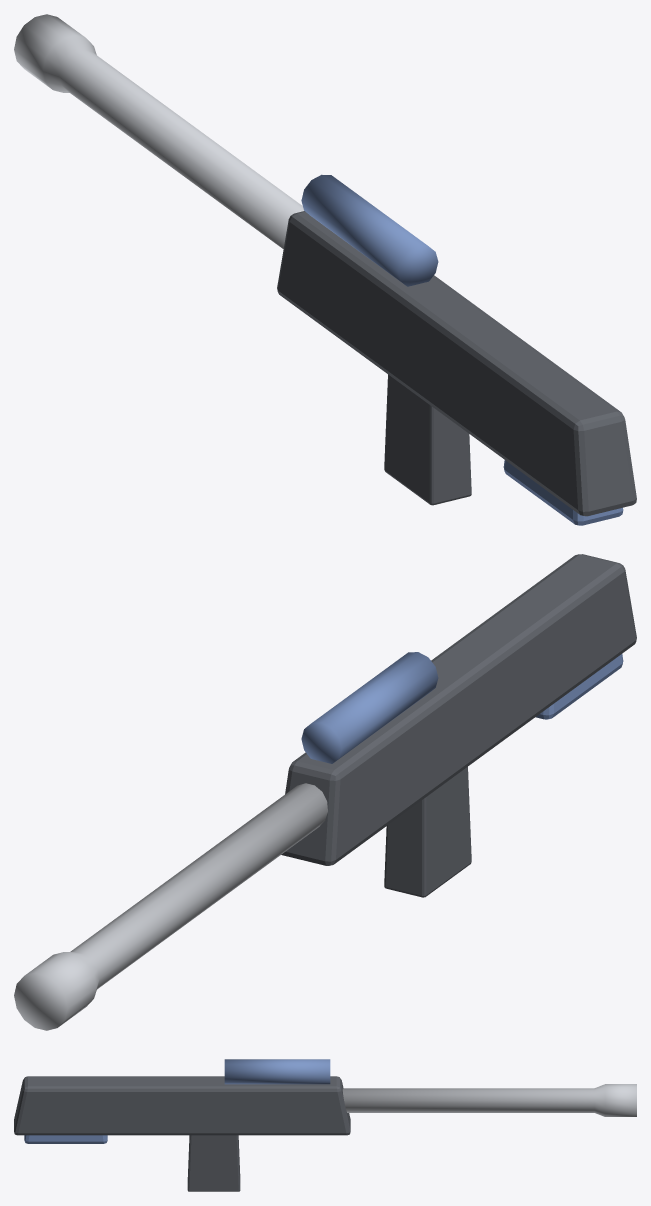
The model's file is weapon_rifle_live.glb.
3 views of the same model, one above another, from view 1: azimuth 30°, elevation 25°; view 2: azimuth 150°, elevation 25°; view 3: azimuth 270°, elevation 25° (orthographic). The views are drawn at different scales.
Parts seen in each view (by area): view 1: body, barrel, magazine, scope, stock; view 2: body, barrel, magazine, scope, stock; view 3: body, barrel, magazine, scope, stock.
Boxes of the visible parts, x1=… form: body: x1=277, y1=211, x2=636, y2=516; barrel: x1=14, y1=14, x2=303, y2=248; magazine: x1=384, y1=374, x2=471, y2=505; scope: x1=301, y1=174, x2=438, y2=286; stock: x1=503, y1=460, x2=623, y2=525; body: x1=281, y1=554, x2=636, y2=865; barrel: x1=14, y1=783, x2=327, y2=1030; magazine: x1=384, y1=767, x2=471, y2=897; scope: x1=301, y1=652, x2=438, y2=763; stock: x1=535, y1=654, x2=623, y2=719; body: x1=14, y1=1076, x2=350, y2=1135; barrel: x1=342, y1=1084, x2=636, y2=1116; magazine: x1=187, y1=1135, x2=240, y2=1191; scope: x1=224, y1=1059, x2=330, y2=1084; stock: x1=24, y1=1135, x2=107, y2=1143.
Bounding box in the file's own units: 0.5882 × 2.24 × 10.02.
